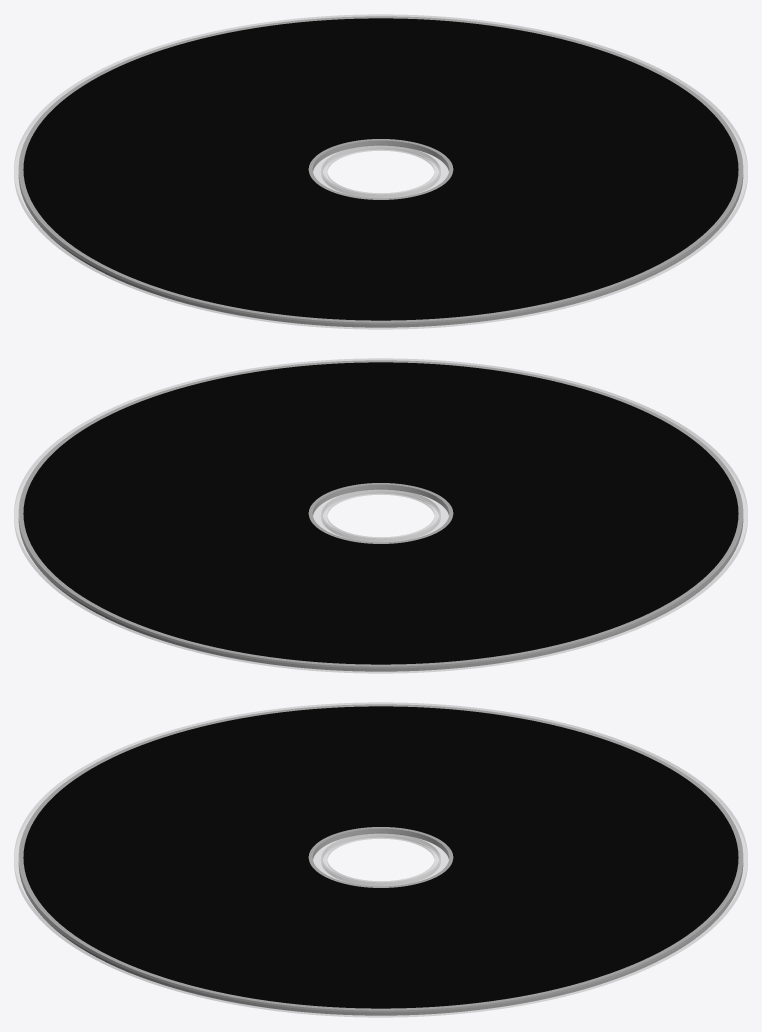
Rendered from CD_DISC.fbx.
3 renders of one model, top to bottom at view 1: azimuth 30°, elevation 25°; view 2: azimuth 150°, elevation 25°; view 3: azimuth 270°, elevation 25°, orthographic.
Parts seen in each view (by area): view 1: Cylinder_4, Cylinder_5, Cylinder_6, Cylinder_2, Cylinder, Cylinder_3, Cylinder_1_3, Cylinder_1_2; view 2: Cylinder_4, Cylinder_5, Cylinder_6, Cylinder_2, Cylinder, Cylinder_3, Cylinder_1_3, Cylinder_1_2; view 3: Cylinder_4, Cylinder_5, Cylinder_6, Cylinder_2, Cylinder, Cylinder_3, Cylinder_1_3, Cylinder_1_2.
Boxes of the visible parts, left/top/right/bottom form: Cylinder_4: left=23, top=18, right=738, bottom=320; Cylinder_5: left=18, top=16, right=743, bottom=327; Cylinder_6: left=14, top=14, right=747, bottom=329; Cylinder_2: left=313, top=141, right=448, bottom=197; Cylinder: left=321, top=145, right=440, bottom=197; Cylinder_3: left=308, top=139, right=453, bottom=199; Cylinder_1_3: left=312, top=140, right=449, bottom=170; Cylinder_1_2: left=322, top=145, right=439, bottom=195; Cylinder_4: left=23, top=362, right=738, bottom=664; Cylinder_5: left=18, top=360, right=743, bottom=671; Cylinder_6: left=14, top=358, right=747, bottom=673; Cylinder_2: left=313, top=485, right=448, bottom=541; Cylinder: left=321, top=489, right=440, bottom=541; Cylinder_3: left=308, top=483, right=453, bottom=543; Cylinder_1_3: left=312, top=484, right=449, bottom=514; Cylinder_1_2: left=322, top=489, right=439, bottom=539; Cylinder_4: left=23, top=706, right=738, bottom=1008; Cylinder_5: left=18, top=704, right=743, bottom=1015; Cylinder_6: left=14, top=702, right=747, bottom=1017; Cylinder_2: left=313, top=829, right=448, bottom=885; Cylinder: left=321, top=833, right=440, bottom=885; Cylinder_3: left=308, top=827, right=453, bottom=887; Cylinder_1_3: left=312, top=828, right=449, bottom=858; Cylinder_1_2: left=322, top=833, right=439, bottom=883.
Size of the model in its own units: 65.58 by 0.4975 by 65.6.
3 materials, 1 textured.
